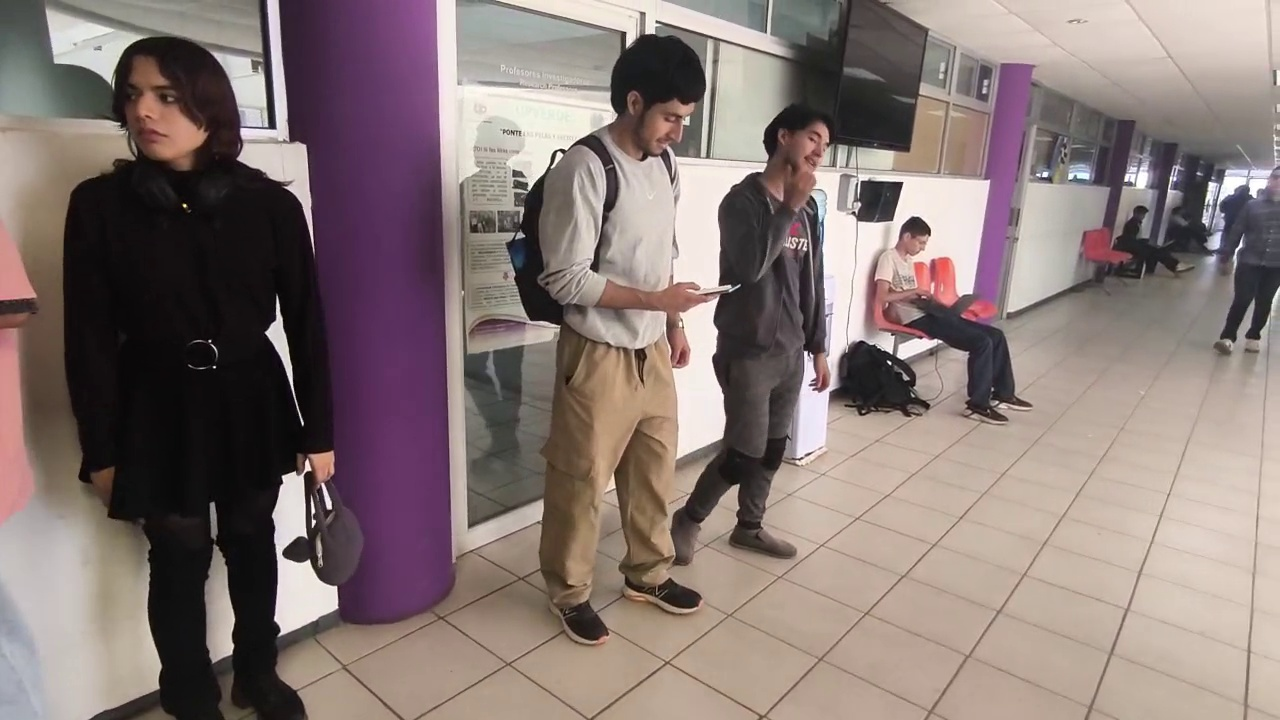mixto2: (686, 278, 744, 297)
